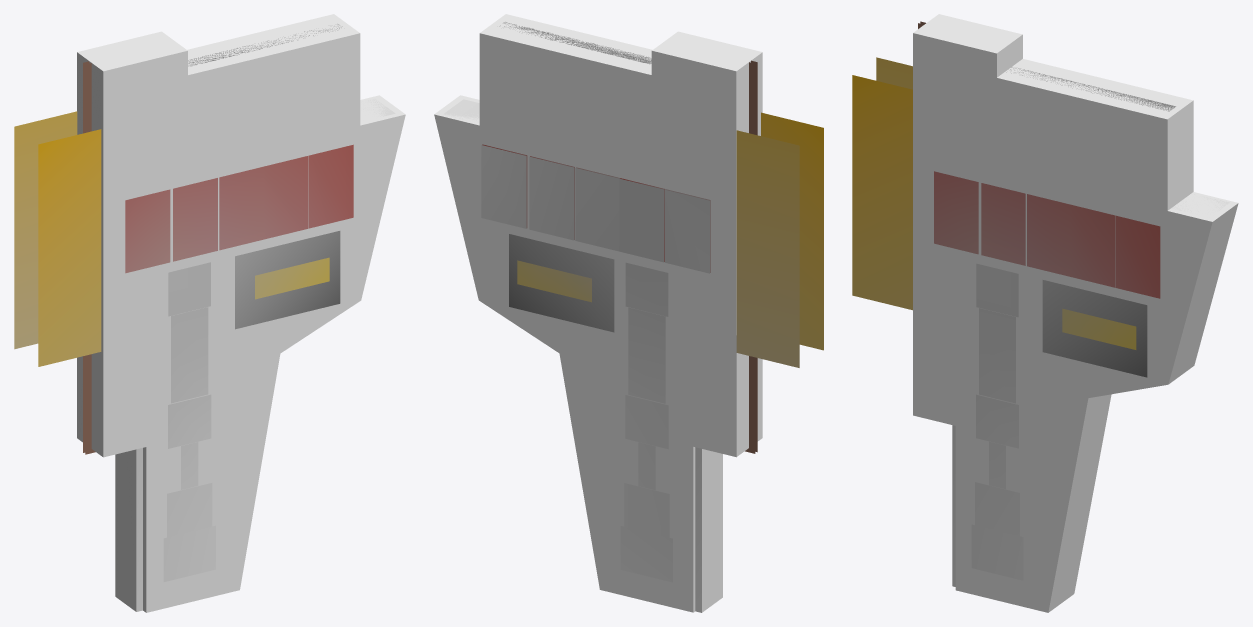
File: s_smash_auto_sign_001.dae
3 renders of one model, left to right at view 1: azimuth 30°, elevation 25°; view 2: azimuth 150°, elevation 25°; view 3: azimuth 330°, elevation 25°, orthographic.
Parts seen in each view (by area): view 1: Colmesh_s_smash_auto_sign_001-1, s_smash_auto_sign_001_L45; view 2: Colmesh_s_smash_auto_sign_001-1, s_smash_auto_sign_001_L45; view 3: Colmesh_s_smash_auto_sign_001-1, s_smash_auto_sign_001_L45.
Boxes of the visible parts, x1,y1,x2,y2 form: Colmesh_s_smash_auto_sign_001-1: [77, 14, 405, 612]; s_smash_auto_sign_001_L45: [14, 24, 395, 611]; Colmesh_s_smash_auto_sign_001-1: [434, 14, 762, 612]; s_smash_auto_sign_001_L45: [443, 22, 823, 612]; Colmesh_s_smash_auto_sign_001-1: [913, 14, 1238, 612]; s_smash_auto_sign_001_L45: [852, 21, 1229, 586].
Bounding box in the file's own units: 4.02 × 0.5468 × 5.79.
